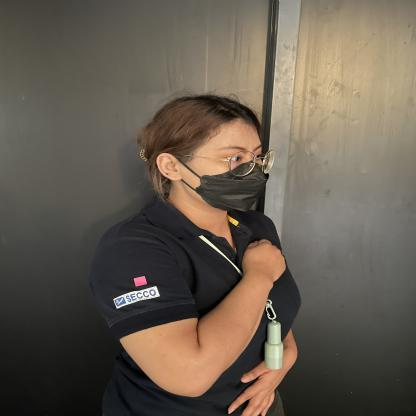Sadness: (181, 225, 302, 333)
